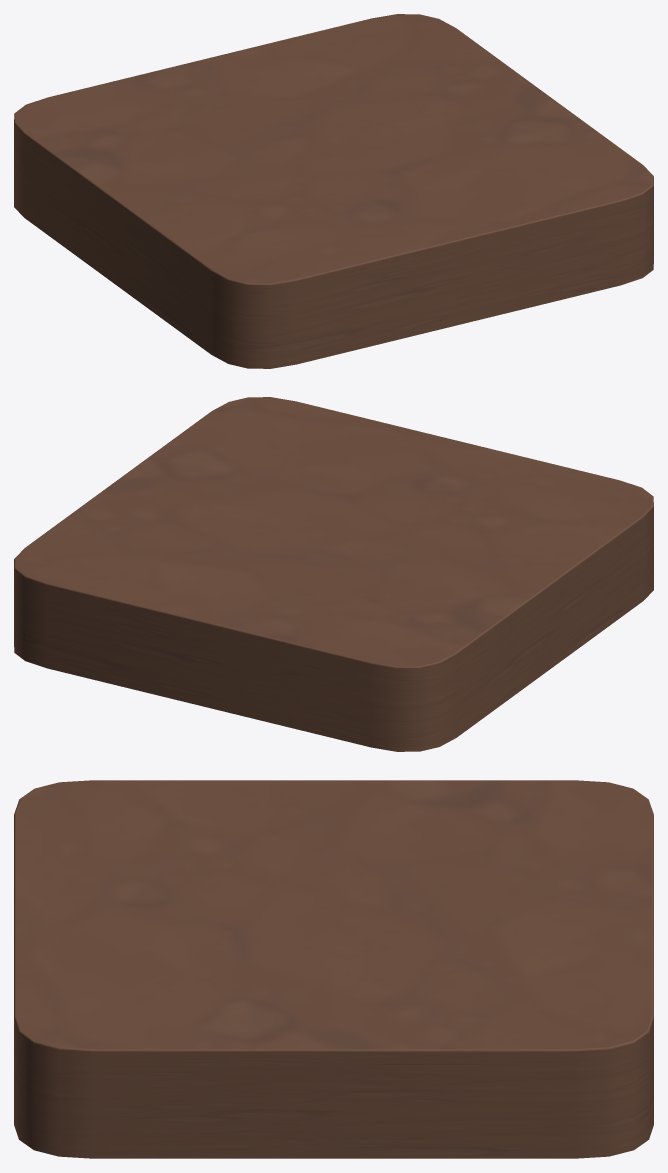
The model's file is small-square.glb.
3 renders of one model, top to bottom at view 1: azimuth 30°, elevation 25°; view 2: azimuth 150°, elevation 25°; view 3: azimuth 270°, elevation 25°, orthographic. The views are drawn at different scales.
Visible parts, largest first — view 1: geometry_0; view 2: geometry_0; view 3: geometry_0.
Part boxes in pixels (x1,y1,x2,y2): geometry_0: (14, 14, 653, 368); geometry_0: (14, 397, 653, 751); geometry_0: (14, 780, 653, 1158).
Size of the model in its own units: 32 by 6 by 32.
Materials: 1 (1 with a texture image).
